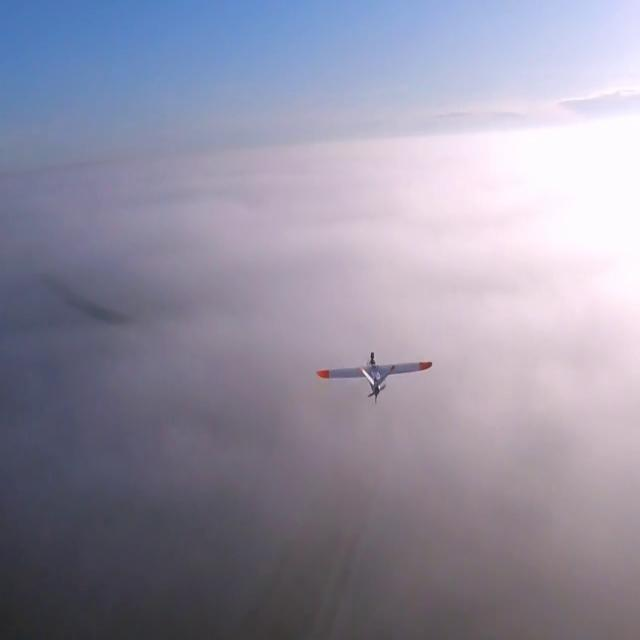iha: (350, 351, 402, 405)
